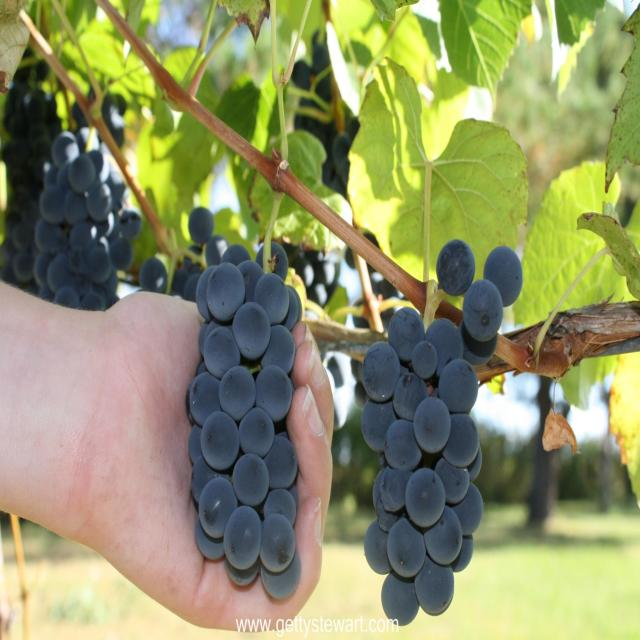grape: (359, 238, 522, 624), (361, 240, 522, 624), (176, 206, 301, 600), (187, 251, 300, 599), (188, 263, 300, 599), (0, 63, 142, 309), (30, 127, 141, 307)
